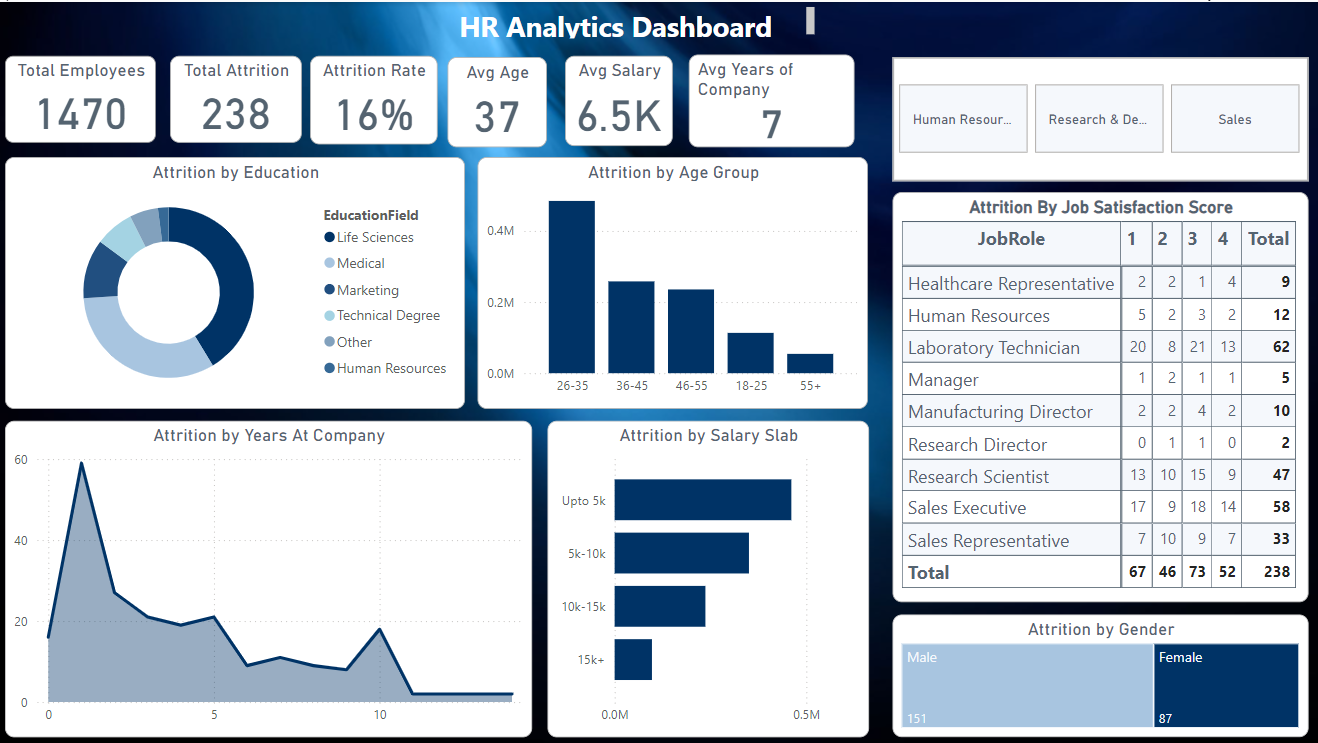

Layout of this report page (visuals, bound fields, positions):
{"tool":"powerbi","page":{"name":"HR page1","canvas":[1280,720],"ordinal":0},"visuals":[{"type":"card","title":"Total Employees","fields":{"Values":["Count(HR_Analytics.EmpID)"]},"box":[10,51.4,145.7,84.3],"z":0},{"type":"card","title":"Total Attrition","fields":{"Values":["CountNonNull(HR_Analytics.Attrition)"]},"box":[168.6,51.4,127.1,84.3],"z":1000},{"type":"card","title":"Avg Age","fields":{"Values":["select","Avg(HR_Analytics.Age)"]},"box":[437.1,52.9,95.7,87.1],"z":2000},{"type":"card","title":"Avg Years of Company ","fields":{"Values":["Avg(HR_Analytics.YearsAtCompany)"]},"box":[669.1,50.5,159.8,89.7],"z":3000},{"type":"card","title":"Attrition Rate","fields":{"Values":["HR_Analytics.ATTR"]},"box":[304.3,51.4,122.9,85.7],"z":4000},{"type":"card","title":"Avg Salary","fields":{"Values":["Avg(HR_Analytics.MonthlyIncome)"]},"box":[550,51.4,104.3,87.1],"z":5000},{"type":"donutChart","title":"Attrition by Education","fields":{"Category":["HR_Analytics.EducationField"],"Series":["HR_Analytics.Attrition"],"Y":["Sum(HR_Analytics.MonthlyIncome)"]},"box":[10,150,444.3,242.9],"z":6000},{"type":"clusteredColumnChart","title":"Attrition by Age Group ","fields":{"Y":["Sum(HR_Analytics.MonthlyIncome)"],"Category":["HR_Analytics.AgeGroup"],"Series":["HR_Analytics.Attrition"]},"box":[465.7,150,377.1,242.9],"z":7000},{"type":"barChart","title":"Attrition by Salary Slab ","fields":{"Category":["HR_Analytics.SalarySlab"],"Y":["Sum(HR_Analytics.MonthlyIncome)"],"Series":["HR_Analytics.Attrition"]},"box":[532.9,404.3,310,305.7],"z":8000},{"type":"treemap","title":" Attrition by Gender","fields":{"Details":["HR_Analytics.Gender"],"Values":["CountNonNull(HR_Analytics.Attrition)"]},"box":[865.7,591.4,401.4,118.6],"z":9000},{"type":"areaChart","title":"Attrition by Years At Company","fields":{"Series":["HR_Analytics.Attrition"],"Category":["HR_Analytics.YearsAtCompany"],"Y":["CountNonNull(HR_Analytics.Attrition)"]},"box":[10,404.3,508.6,305.7],"z":10000},{"type":"advancedSlicerVisual","fields":{"Values":["HR_Analytics.Department"]},"box":[865.7,52.9,401.4,120],"z":11000},{"type":"pivotTable","title":"Attrition By Job Satisfaction Score ","fields":{"Rows":["HR_Analytics.JobRole"],"Columns":["HR_Analytics.JobSatisfaction"],"Values":["HR_Analytics.Measure 2"]},"box":[865.7,182.9,401.4,395.7],"z":12000},{"type":"textbox","box":[410.3,0,385.6,40.2],"z":13000}]}

Visuals, with their boxes in screenshot pixels (x1, y1, x2, y2), scaled from the page's 1280x720 canvas onto the 1318x743 screenshot:
"Total Employees" card: pyautogui.locateOnScreen(10, 53, 160, 140)
"Total Attrition" card: pyautogui.locateOnScreen(174, 53, 304, 140)
"Avg Age" card: pyautogui.locateOnScreen(450, 55, 549, 144)
"Avg Years of Company " card: pyautogui.locateOnScreen(689, 52, 854, 145)
"Attrition Rate" card: pyautogui.locateOnScreen(313, 53, 440, 141)
"Avg Salary" card: pyautogui.locateOnScreen(566, 53, 674, 143)
"Attrition by Education" donutChart: pyautogui.locateOnScreen(10, 155, 468, 405)
"Attrition by Age Group " clusteredColumnChart: pyautogui.locateOnScreen(480, 155, 868, 405)
"Attrition by Salary Slab " barChart: pyautogui.locateOnScreen(549, 417, 868, 733)
" Attrition by Gender" treemap: pyautogui.locateOnScreen(891, 610, 1305, 733)
"Attrition by Years At Company" areaChart: pyautogui.locateOnScreen(10, 417, 534, 733)
advancedSlicerVisual - HR_Analytics.Department: pyautogui.locateOnScreen(891, 55, 1305, 178)
"Attrition By Job Satisfaction Score " pivotTable: pyautogui.locateOnScreen(891, 189, 1305, 597)
textbox: pyautogui.locateOnScreen(422, 0, 820, 41)
